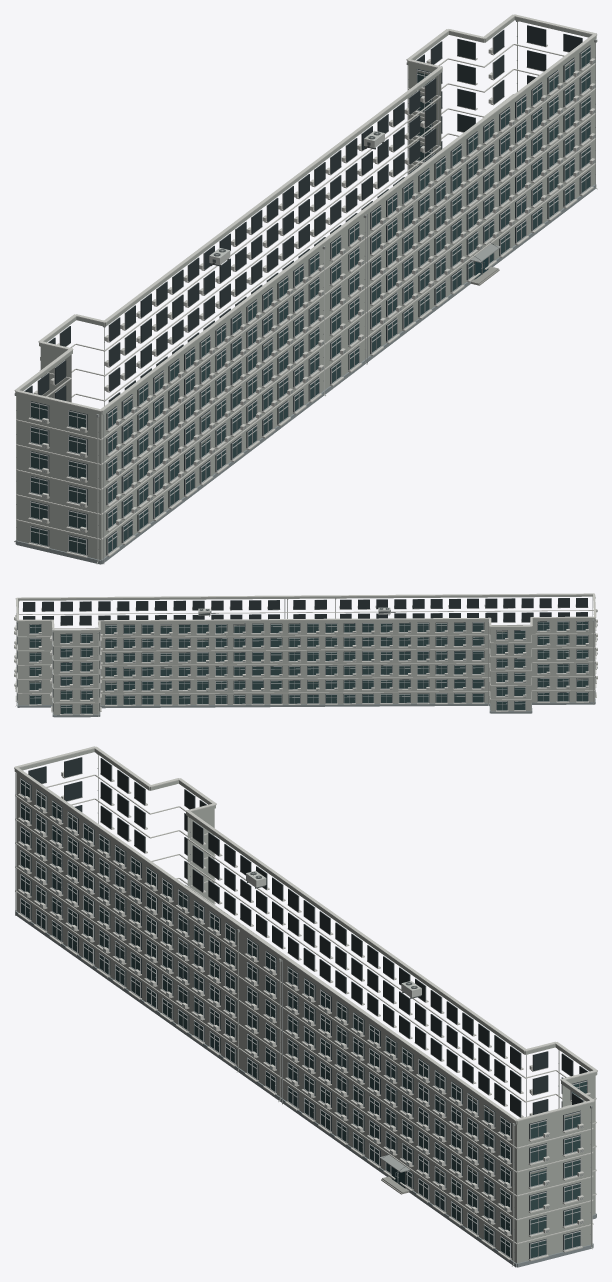
The model's file is osm_way_225253711.glb.
3 views of the same model, one above another, from view 1: azimuth 30°, elevation 25°; view 2: azimuth 150°, elevation 25°; view 3: azimuth 270°, elevation 25° (orthographic). The views are drawn at different scales.
Visible parts, largest first — view 1: Windows and facade details | 48, Architecture | 48, Roof services | 48, EXTERIOR::osm_way_225253711::rainwater and roof service deta; view 2: Windows and facade details | 48, Architecture | 48, Roof services | 48, EXTERIOR::osm_way_225253711::rainwater and roof service deta, EXTERIOR::osm_way_225253711::native pane seals and hardware; view 3: Windows and facade details | 48, Architecture | 48, Roof services | 48, EXTERIOR::osm_way_225253711::rainwater and roof service deta.
Boxes of the visible parts, x1,y1,x2,y2 form: Windows and facade details | 48: (24, 25, 595, 563); Architecture | 48: (15, 17, 596, 564); Roof services | 48: (14, 14, 597, 411); EXTERIOR::osm_way_225253711::rainwater and roof service deta: (14, 20, 597, 564); Windows and facade details | 48: (14, 597, 597, 715); Architecture | 48: (17, 594, 595, 717); Roof services | 48: (15, 593, 596, 630); EXTERIOR::osm_way_225253711::rainwater and roof service deta: (15, 597, 595, 716); EXTERIOR::osm_way_225253711::native pane seals and hardware: (30, 624, 587, 700); Windows and facade details | 48: (15, 757, 590, 1261); Architecture | 48: (14, 749, 597, 1267); Roof services | 48: (14, 746, 597, 1121); EXTERIOR::osm_way_225253711::rainwater and roof service deta: (97, 754, 592, 1266).
Bounding box in the file's own units: 108 × 20.58 × 70.92.
